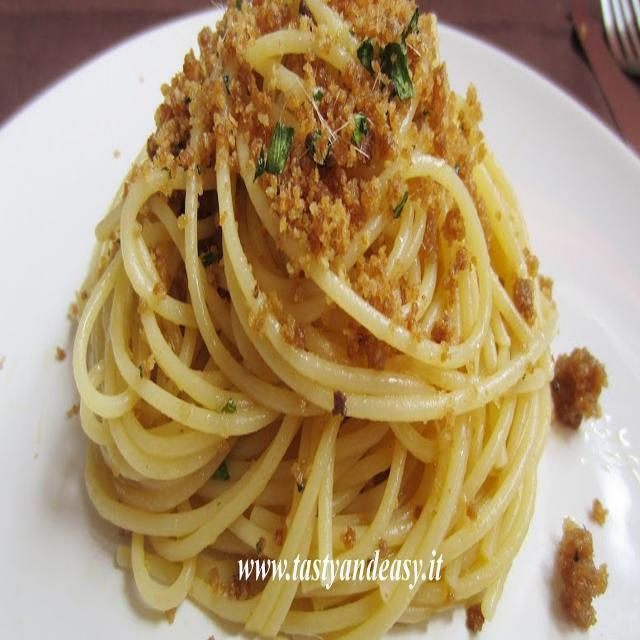Oil pasta: (120, 11, 588, 535)
